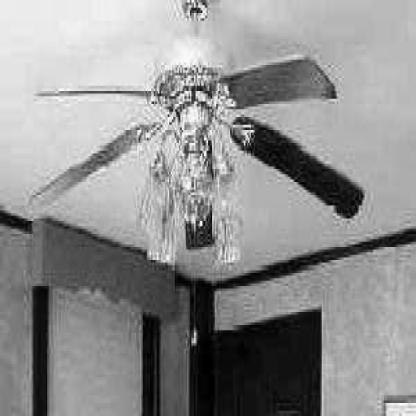ceiling-fan: (32, 8, 378, 256)
